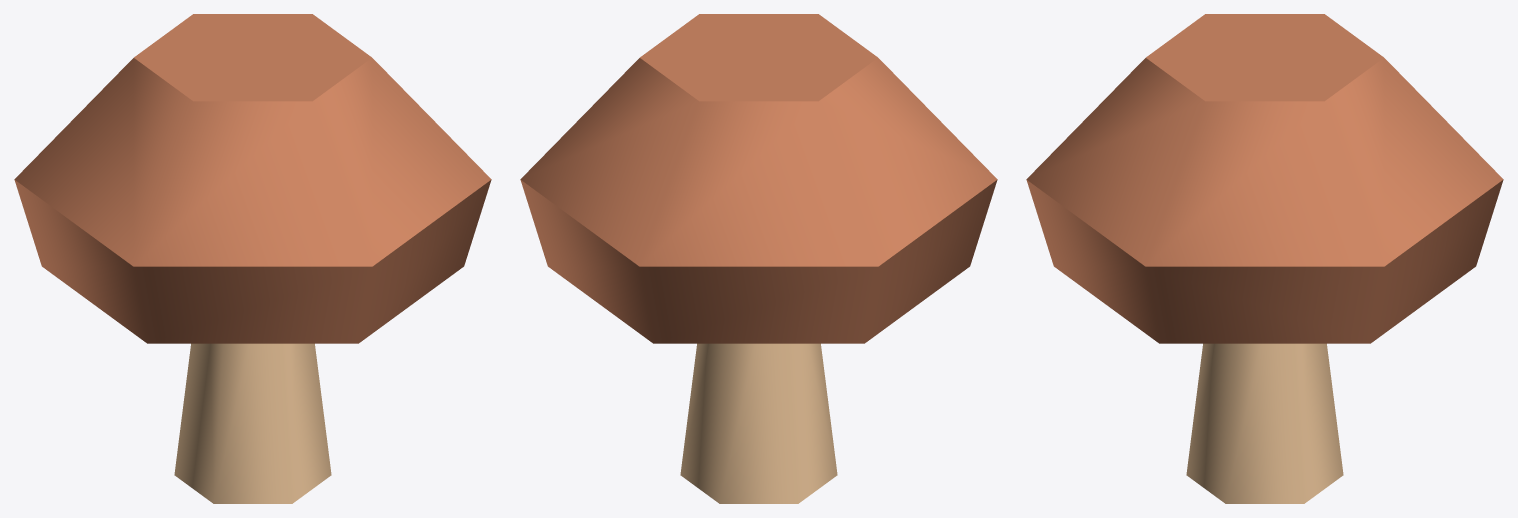
The model's file is Mushroom.glb.
3 renders of one model, left to right at view 1: azimuth 30°, elevation 25°; view 2: azimuth 150°, elevation 25°; view 3: azimuth 270°, elevation 25°, orthographic.
Parts seen in each view (by area): view 1: mushroom; view 2: mushroom; view 3: mushroom.
Boxes of the visible parts, x1,y1,x2,y2 form: mushroom: (14, 14, 491, 503); mushroom: (520, 14, 997, 503); mushroom: (1026, 14, 1503, 503).
Size of the model in its own units: 0.1249 by 0.1392 by 0.1442.
